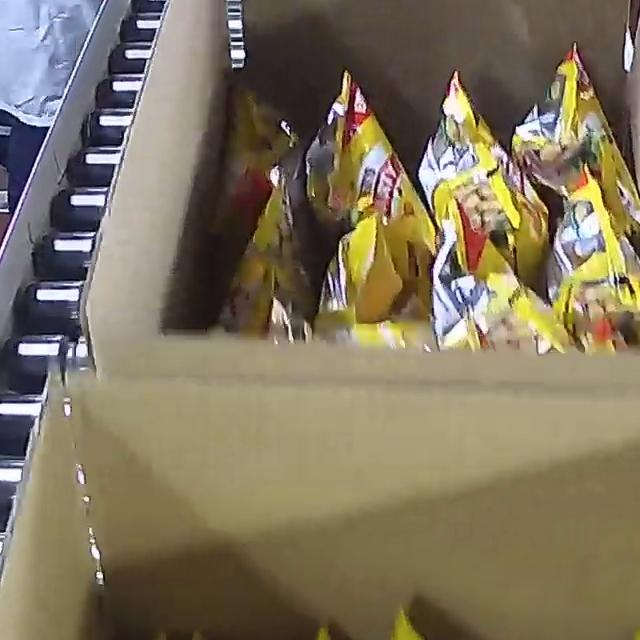salted: (215, 30, 640, 360), (87, 557, 640, 640)
